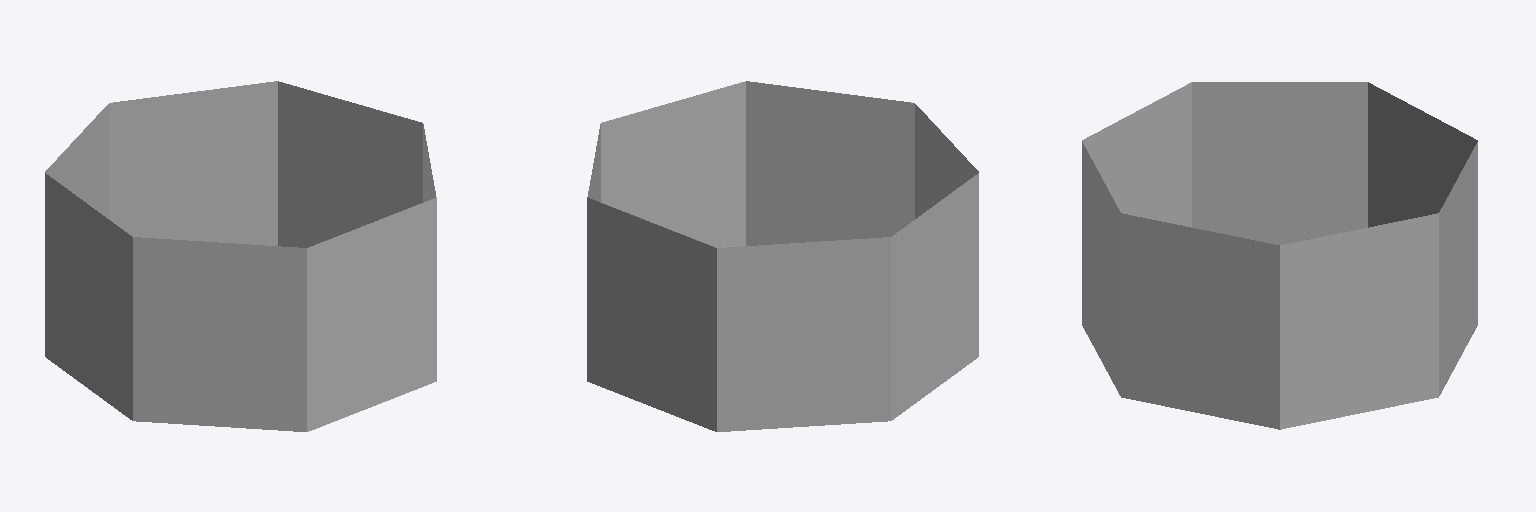
The model's file is connection6.obj.
3 renders of one model, left to right at view 1: azimuth 30°, elevation 25°; view 2: azimuth 150°, elevation 25°; view 3: azimuth 270°, elevation 25°, orthographic.
Parts seen in each view (by area): view 1: pCylinder5; view 2: pCylinder5; view 3: pCylinder5.
Boxes of the visible parts, box(x1,y1,x2,y2) form: pCylinder5: box(45, 81, 436, 431); pCylinder5: box(587, 81, 978, 431); pCylinder5: box(1082, 82, 1477, 429).
Size of the model in its own units: 1.9 by 1 by 1.95.